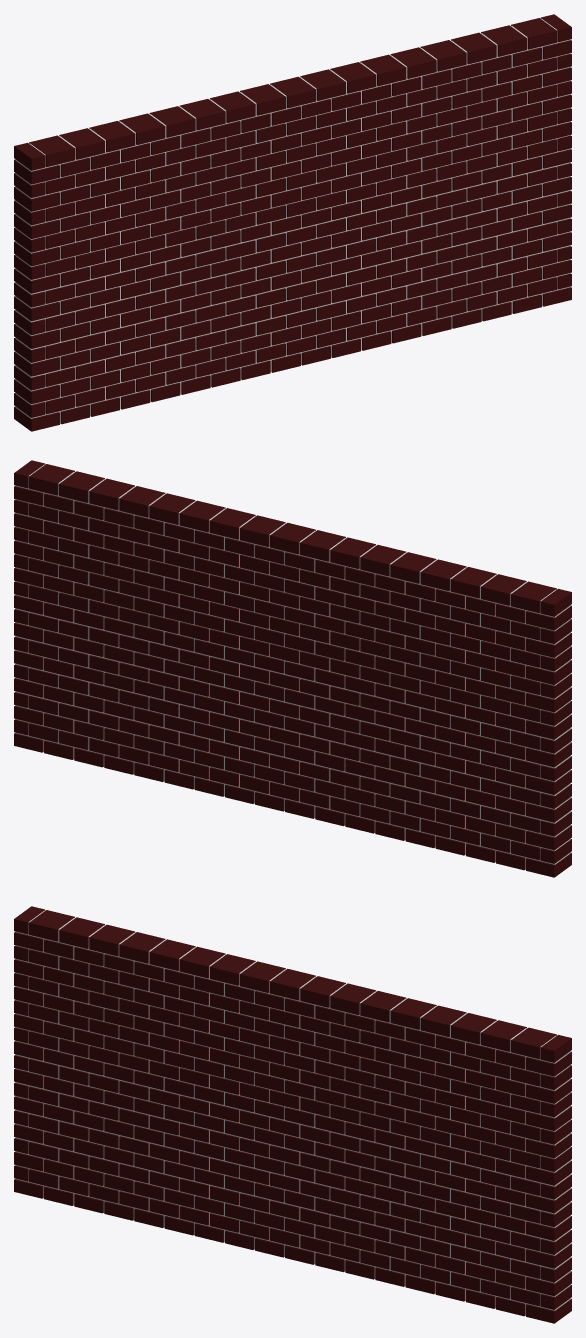
The model's file is Wall.obj.
3 renders of one model, top to bottom at view 1: azimuth 30°, elevation 25°; view 2: azimuth 150°, elevation 25°; view 3: azimuth 330°, elevation 25°, orthographic.
Parts seen in each view (by area): view 1: Box20549, Box20535, Box20548, Box20519, Box20532, Box20538, Box20545, Box20546, Box20520, Box20541, Box20542, Box20533 (+17 smaller); view 2: Box20549, Box20535, Box20548, Box20519, Box20532, Box20538, Box20545, Box20546, Box20520, Box20541, Box20542, Box20533 (+17 smaller); view 3: Box20549, Box20533, Box20536, Box20537, Box20542, Box20534, Box20547, Box20519, Box20538, Box20545, Box20548, Box20520 (+17 smaller).
Part boxes in pixels (x1=…): Box20549: x1=15, y1=18, x2=570, y2=423; Box20535: x1=300, y1=69, x2=345, y2=100; Box20548: x1=210, y1=91, x2=255, y2=122; Box20519: x1=420, y1=40, x2=466, y2=71; Box20532: x1=511, y1=18, x2=556, y2=49; Box20538: x1=179, y1=99, x2=225, y2=130; Box20545: x1=390, y1=47, x2=436, y2=78; Box20546: x1=89, y1=121, x2=135, y2=152; Box20520: x1=59, y1=128, x2=104, y2=159; Box20541: x1=481, y1=25, x2=526, y2=56; Box20542: x1=451, y1=32, x2=496, y2=64; Box20533: x1=119, y1=113, x2=165, y2=144; Box20549: x1=15, y1=464, x2=570, y2=869; Box20535: x1=240, y1=515, x2=285, y2=546; Box20548: x1=330, y1=537, x2=375, y2=568; Box20519: x1=119, y1=486, x2=165, y2=517; Box20532: x1=29, y1=464, x2=74, y2=495; Box20538: x1=360, y1=545, x2=406, y2=576; Box20545: x1=149, y1=493, x2=195, y2=524; Box20546: x1=450, y1=567, x2=496, y2=598; Box20520: x1=481, y1=574, x2=526, y2=605; Box20541: x1=59, y1=471, x2=104, y2=502; Box20542: x1=89, y1=478, x2=134, y2=510; Box20533: x1=420, y1=559, x2=466, y2=590; Box20549: x1=15, y1=910, x2=570, y2=1315; Box20533: x1=119, y1=932, x2=165, y2=963; Box20536: x1=330, y1=983, x2=376, y2=1014; Box20537: x1=240, y1=961, x2=285, y2=992; Box20542: x1=451, y1=1013, x2=496, y2=1044; Box20534: x1=29, y1=910, x2=74, y2=941; Box20547: x1=149, y1=939, x2=195, y2=970; Box20519: x1=420, y1=1005, x2=466, y2=1036; Box20538: x1=179, y1=946, x2=225, y2=978; Box20545: x1=390, y1=998, x2=436, y2=1029; Box20548: x1=210, y1=954, x2=255, y2=985; Box20520: x1=59, y1=917, x2=104, y2=948.
Bounding box in the file's own units: 9831 × 4742 × 552.
